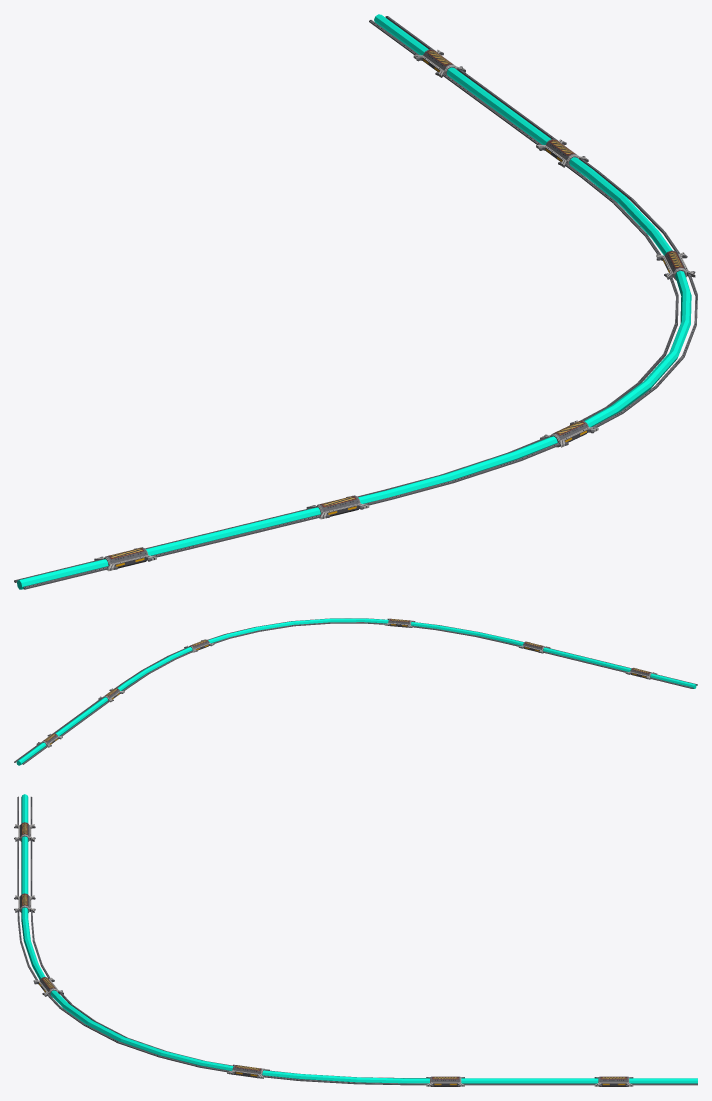
File: SM_Bld_Train_Rail_Curve_Long_02.fbx
3 views of the same model, one above another, from view 1: azimuth 30°, elevation 25°; view 2: azimuth 150°, elevation 25°; view 3: azimuth 270°, elevation 25° (orthographic). The views are drawn at different scales.
Visible parts, largest first — view 1: SM_Bld_Train_Rail_Curve_Long_02; view 2: SM_Bld_Train_Rail_Curve_Long_02; view 3: SM_Bld_Train_Rail_Curve_Long_02.
Boxes of the visible parts, box(x1,y1,x2,y2) form: SM_Bld_Train_Rail_Curve_Long_02: box(14, 14, 697, 589); SM_Bld_Train_Rail_Curve_Long_02: box(14, 618, 697, 765); SM_Bld_Train_Rail_Curve_Long_02: box(14, 794, 697, 1086).
Size of the model in its own units: 5081 by 76.14 by 5081.
